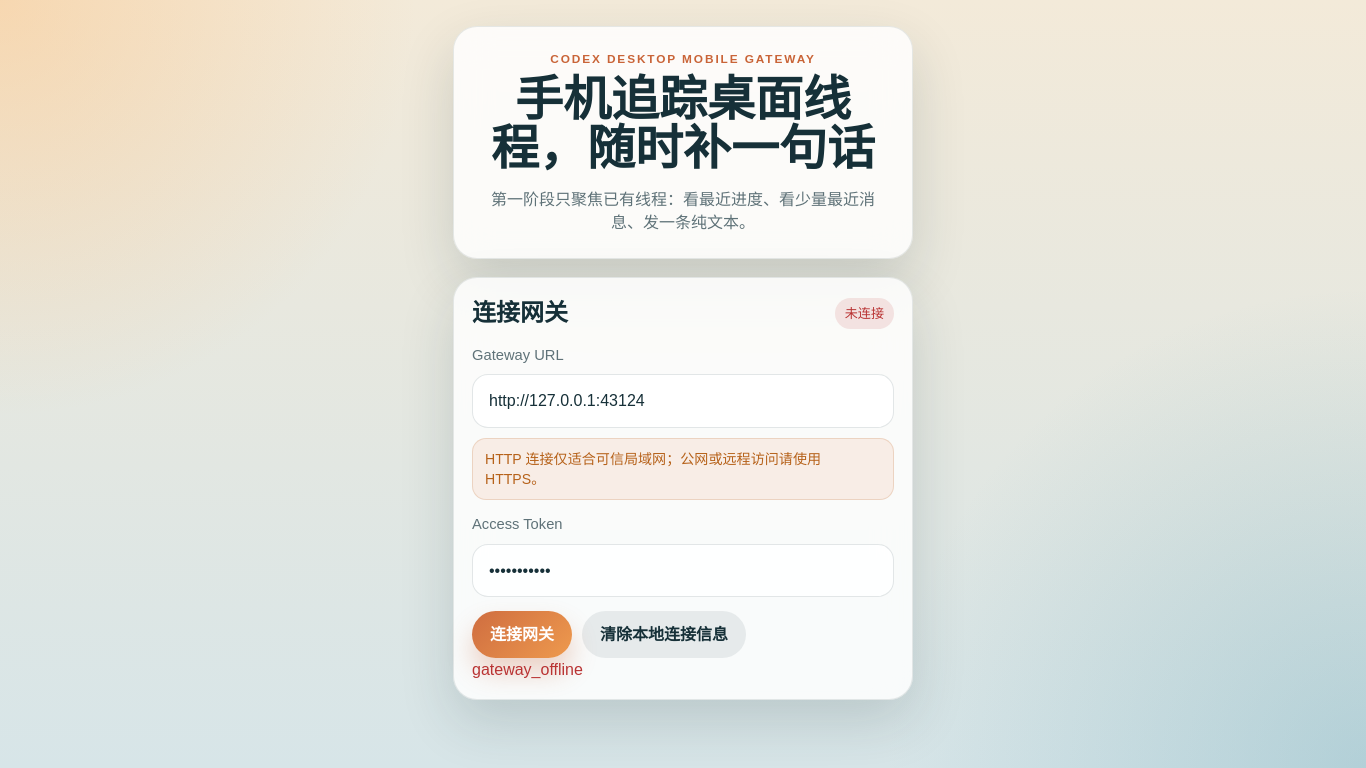
MobileApp › lets users clear saved gateway connection details from the login view
This screenshot has width=1366, height=768.
Expected: the text "gateway_offline" is shown, [472,661,583,678]
What coordinates should you click on to do the following:
click the button "清除本地连接信息"
I would click on:
 (664, 634)
Its box is [582,611,746,658].
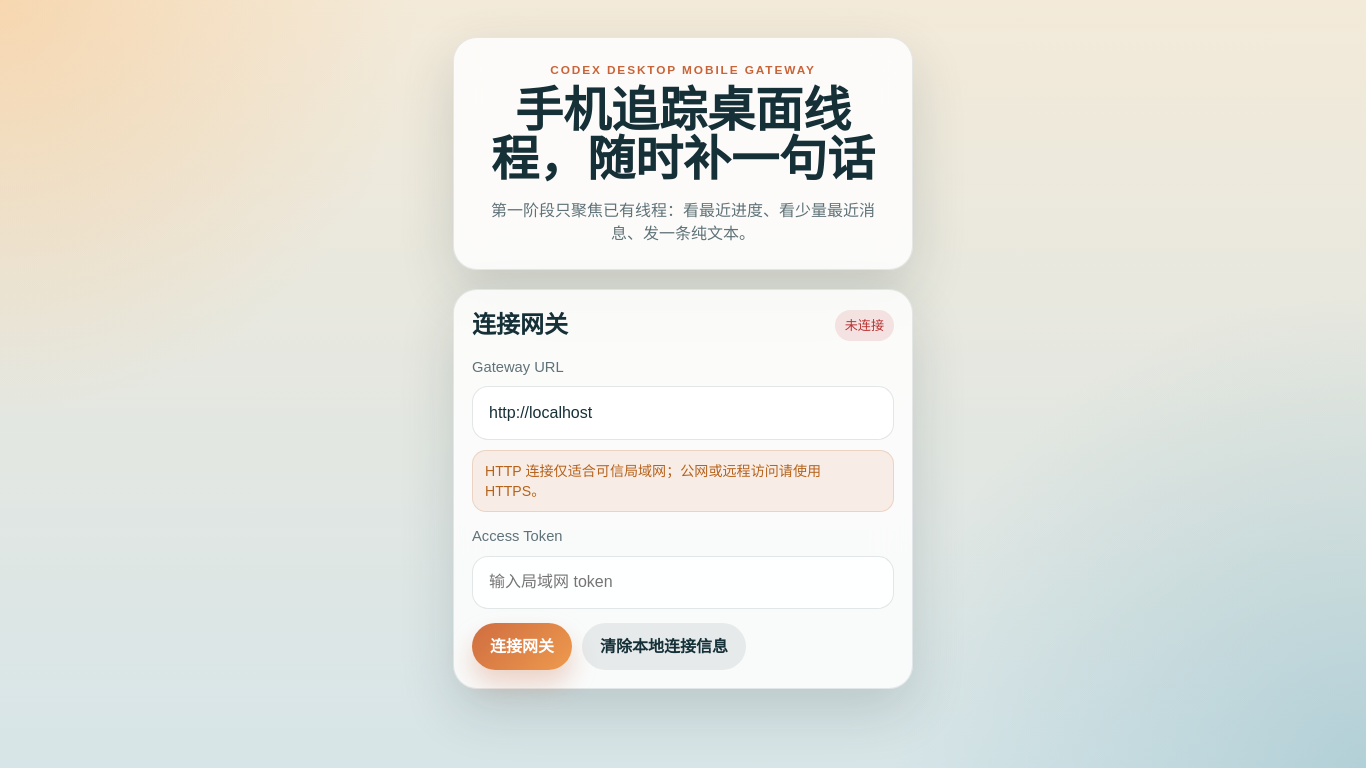
Expected: the password field labelled "Access Token" is empty, [472,555,894,608]
